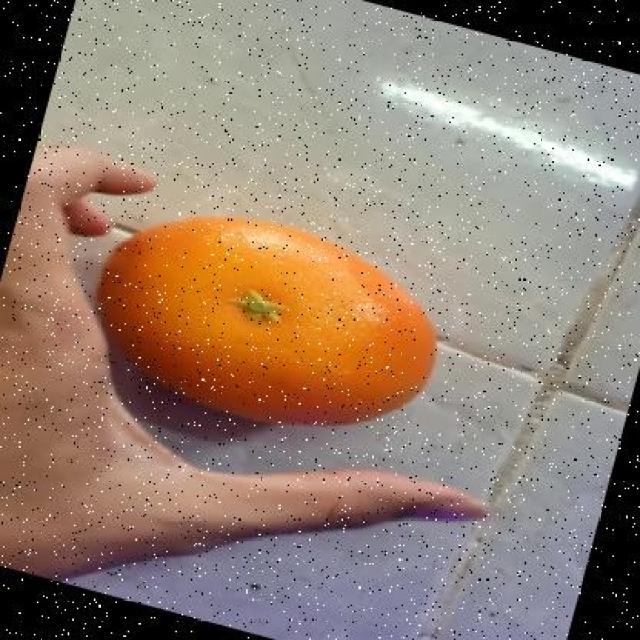Orange: (94, 212, 438, 426)
